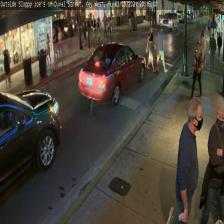person: (175, 96, 203, 224), (201, 97, 223, 224), (190, 41, 204, 98)
